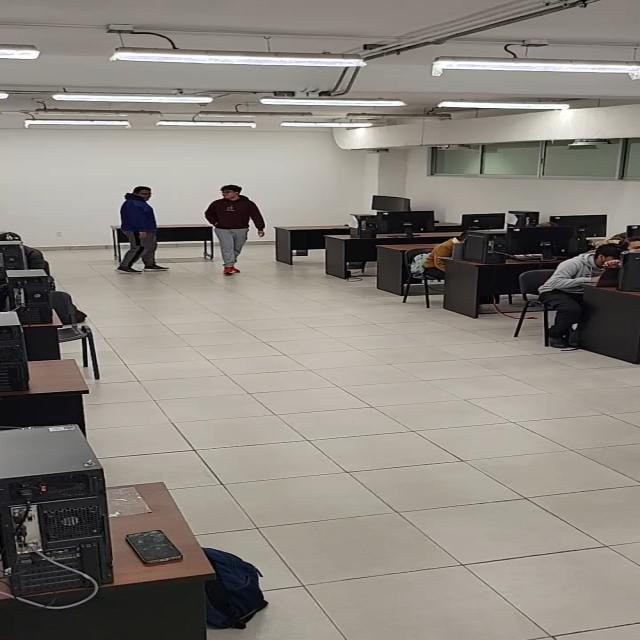Persona: (196, 182, 272, 280), (111, 182, 176, 276)
